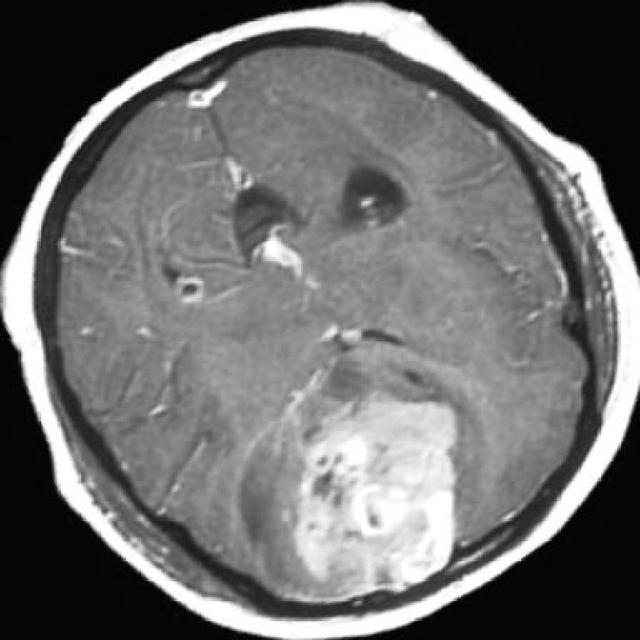Brain-Tumor: (234, 338, 502, 614)
